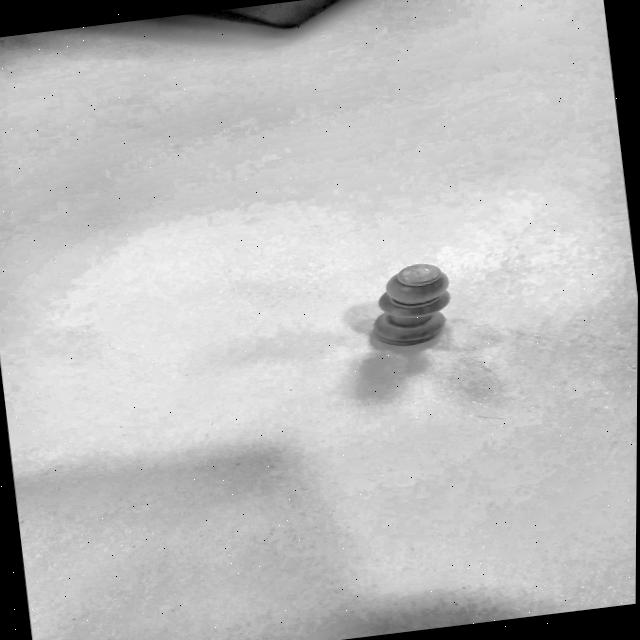white-bishop: (344, 248, 481, 362)
